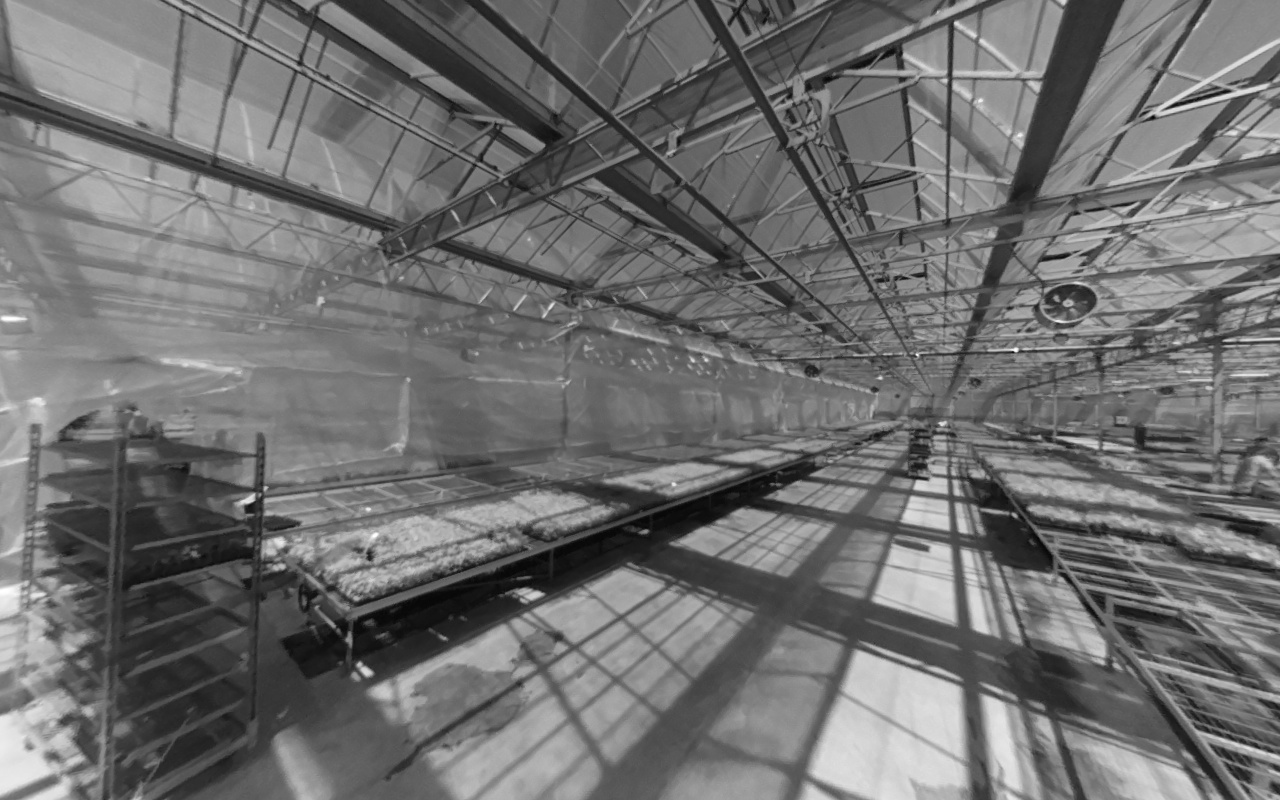fan: (1029, 276, 1113, 331), (797, 359, 827, 385), (1154, 383, 1177, 398), (965, 374, 984, 392), (868, 383, 880, 396)
